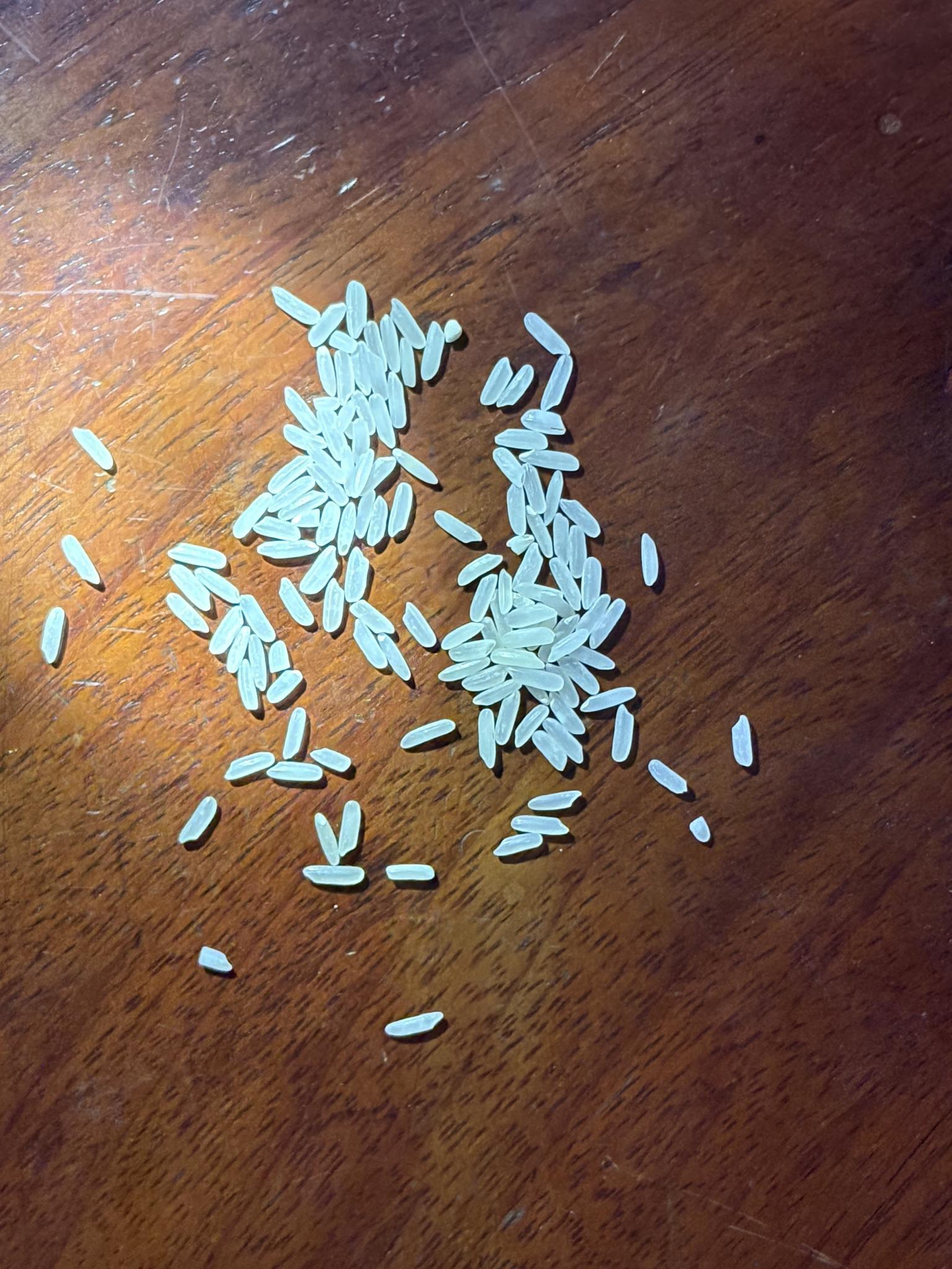Rice-th-y-nh: (523, 312, 571, 356), (169, 564, 211, 610), (272, 286, 319, 326), (390, 299, 427, 349), (540, 355, 574, 409), (61, 535, 99, 583), (301, 546, 338, 595), (72, 427, 114, 470), (232, 493, 272, 538), (178, 797, 218, 842), (278, 577, 314, 626), (590, 599, 626, 647), (560, 498, 602, 539), (392, 448, 438, 485), (195, 567, 241, 604), (239, 595, 275, 642), (165, 594, 208, 633), (308, 303, 346, 347), (352, 619, 385, 669), (208, 607, 243, 654), (308, 464, 348, 505), (496, 364, 534, 407), (480, 357, 513, 406), (284, 387, 319, 433), (545, 719, 583, 761), (268, 455, 310, 493), (559, 658, 600, 696), (435, 511, 482, 544), (550, 558, 581, 608), (368, 394, 396, 449), (169, 542, 226, 569), (511, 543, 543, 591), (457, 553, 503, 586), (513, 705, 549, 747), (350, 600, 394, 634), (403, 602, 436, 647), (400, 721, 455, 748), (523, 448, 580, 474), (380, 634, 411, 681), (275, 490, 325, 519), (225, 752, 276, 780), (532, 731, 567, 771), (421, 324, 446, 380), (283, 425, 328, 456), (388, 483, 414, 536), (582, 687, 637, 712), (344, 548, 369, 603), (362, 348, 390, 397), (257, 538, 319, 560), (270, 482, 317, 511), (548, 629, 589, 662), (314, 815, 340, 867), (495, 692, 521, 744), (439, 657, 491, 683), (319, 409, 346, 459), (648, 760, 687, 794), (550, 695, 584, 734), (302, 864, 365, 885), (386, 1013, 443, 1036), (364, 321, 390, 371), (362, 457, 397, 494), (576, 595, 610, 633), (225, 626, 252, 673), (42, 608, 65, 663), (311, 449, 346, 485), (612, 706, 634, 763), (470, 574, 496, 622), (387, 372, 409, 428), (267, 669, 302, 704), (522, 464, 547, 513), (566, 526, 590, 577), (338, 801, 361, 854), (333, 350, 356, 403), (476, 709, 497, 767), (492, 447, 524, 485), (473, 680, 519, 706), (511, 668, 563, 691), (527, 514, 554, 558), (346, 282, 368, 336), (507, 604, 556, 628), (353, 490, 377, 539), (503, 626, 554, 649), (580, 557, 603, 608), (283, 708, 306, 758), (255, 516, 301, 541), (366, 496, 389, 546), (350, 346, 373, 396), (534, 591, 575, 619), (543, 472, 565, 524), (496, 428, 548, 450), (463, 665, 507, 691), (551, 514, 573, 566), (522, 407, 566, 433), (441, 622, 483, 649), (379, 316, 400, 370), (323, 579, 344, 633), (505, 484, 527, 535), (351, 393, 377, 436), (351, 419, 370, 477), (316, 502, 341, 546), (493, 833, 543, 855), (639, 534, 660, 586), (248, 634, 268, 688), (335, 504, 356, 555), (353, 449, 376, 495), (491, 649, 543, 669), (269, 762, 321, 782), (237, 663, 259, 710), (316, 347, 337, 396), (572, 646, 614, 670), (272, 477, 314, 500), (732, 716, 751, 766), (558, 663, 579, 708), (529, 792, 581, 810), (512, 816, 567, 833), (399, 338, 417, 388), (311, 749, 351, 771), (449, 641, 492, 661), (198, 947, 232, 972), (496, 569, 514, 613), (386, 864, 434, 880), (268, 641, 290, 674), (552, 614, 580, 639), (490, 602, 511, 635), (329, 330, 357, 353), (338, 399, 356, 433), (507, 533, 534, 555), (293, 509, 320, 529), (690, 818, 710, 842), (525, 685, 549, 704), (443, 319, 462, 343), (313, 396, 340, 412), (482, 617, 498, 642)
